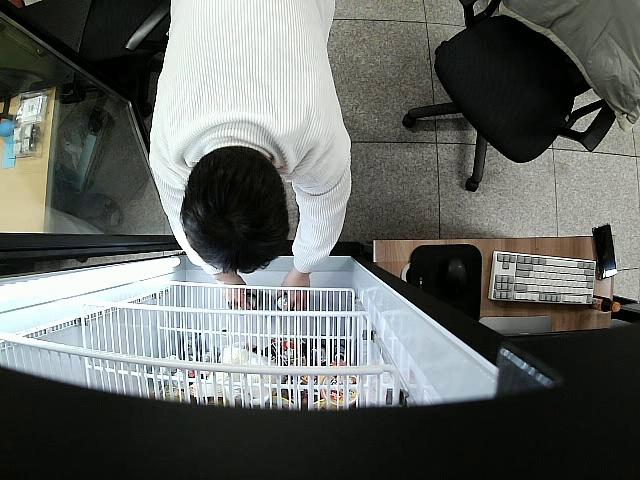00_hand: (273, 276, 311, 313), (220, 277, 249, 311)
12_chilsungCider: (243, 289, 262, 311), (274, 292, 292, 310)
